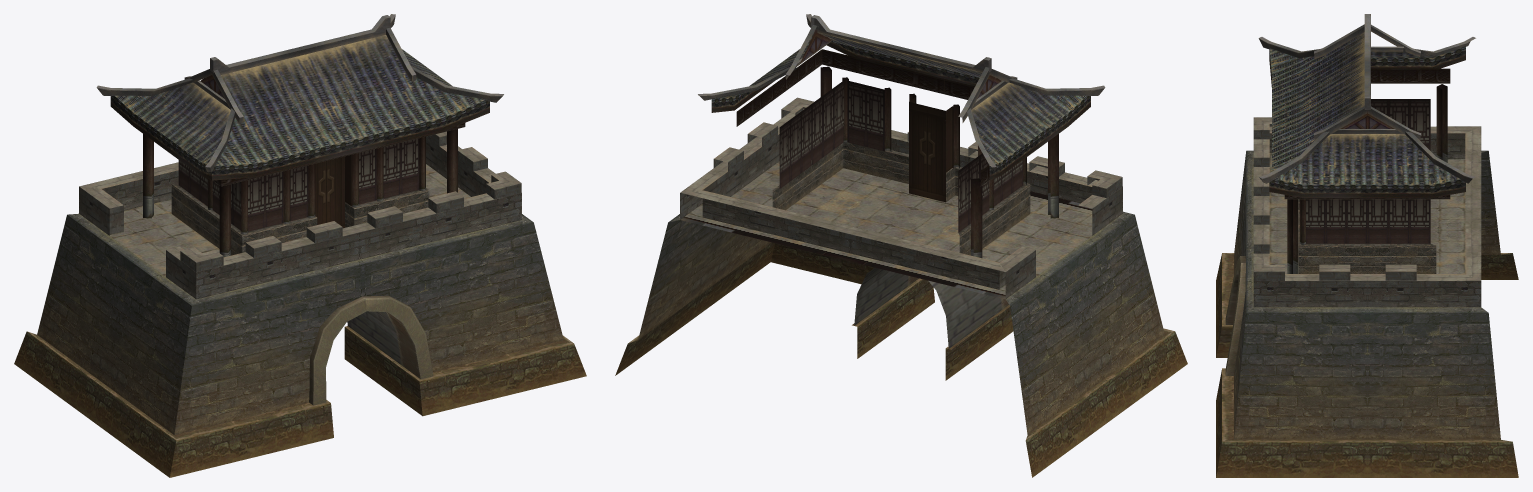
File: yw_yanmenguan_chengmen.FBX
3 views of the same model, side by side, from view 1: azimuth 30°, elevation 25°; view 2: azimuth 150°, elevation 25°; view 3: azimuth 270°, elevation 25° (orthographic). The views are drawn at different scales.
Visible parts, largest first — view 1: yw_yanmenguan_chengmen; view 2: yw_yanmenguan_chengmen; view 3: yw_yanmenguan_chengmen.
Part boxes in pixels (box(x1,y1,x2,y2)): yw_yanmenguan_chengmen: box(14, 14, 586, 477); yw_yanmenguan_chengmen: box(615, 14, 1187, 477); yw_yanmenguan_chengmen: box(1216, 14, 1518, 477).
Bounding box in the file's own units: 1628 × 1239 × 1053.
